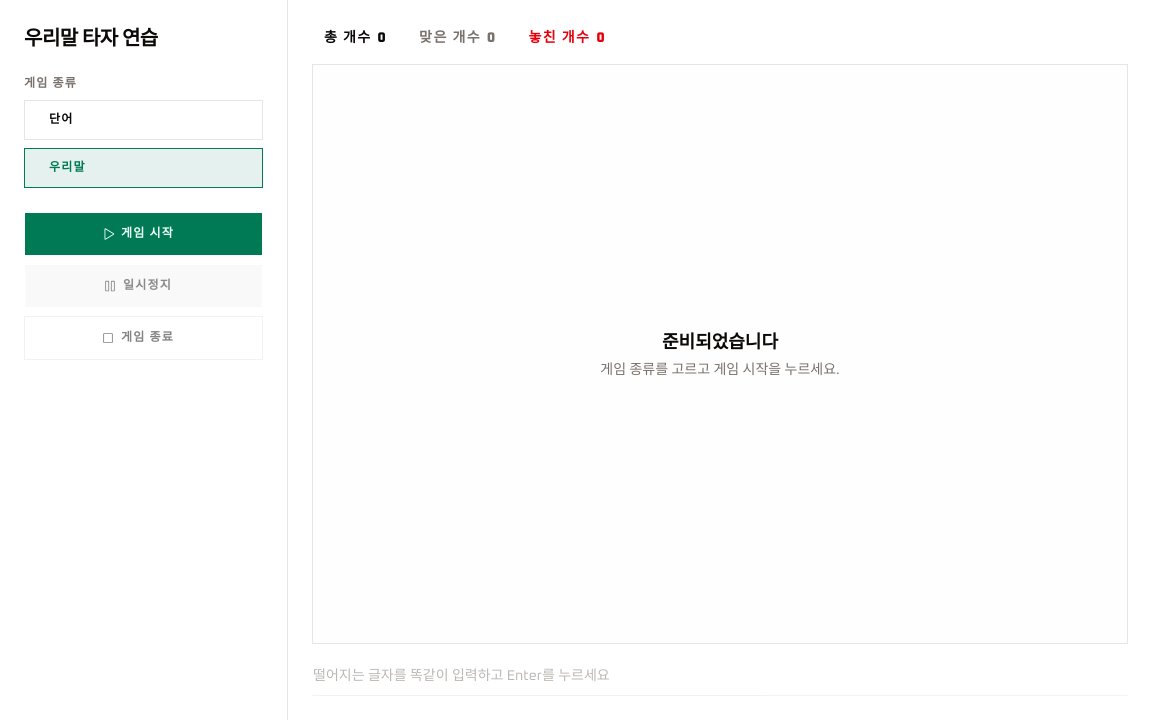
Scenario: 처음에는 우리말이 선택되어 있고, 시작하면 콜론 없이 단어와 뜻이 공백으로 이어진 한 줄이 떨어진다
Step 1. Click the button "게임 시작" → x=144, y=234, box [24, 212, 263, 256]
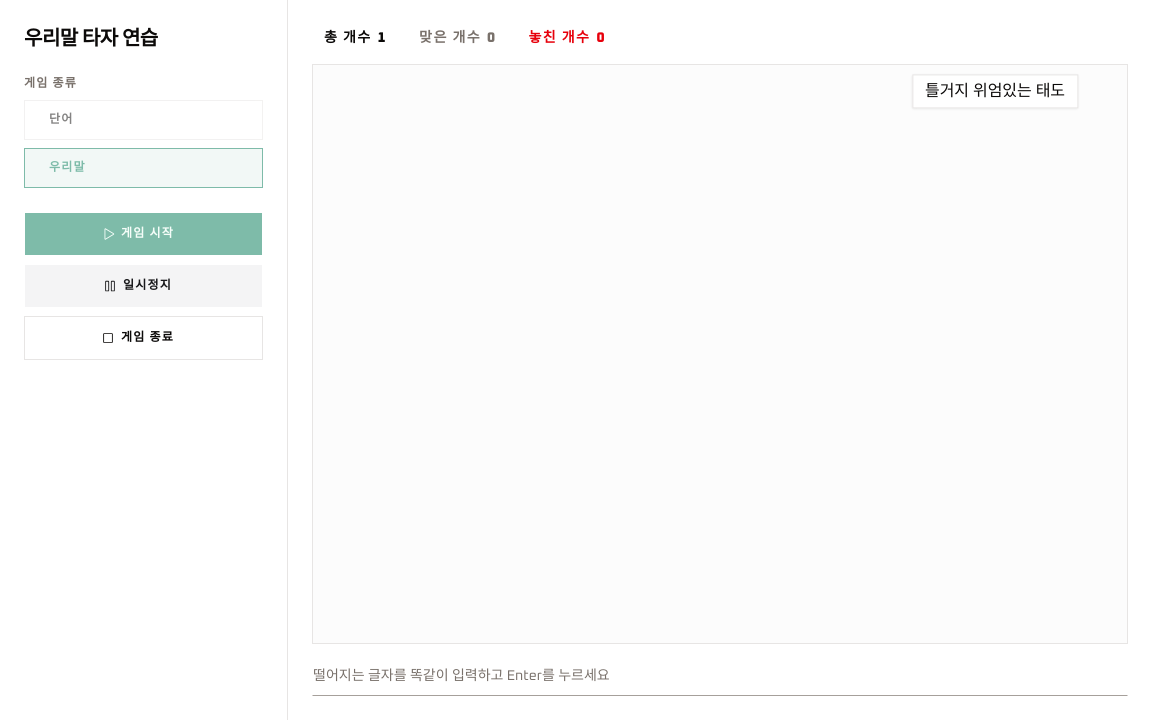
Expected: the text with test id "falling-phrase" reads "틀거지 위엄있는 태도", [912, 74, 1078, 108]
